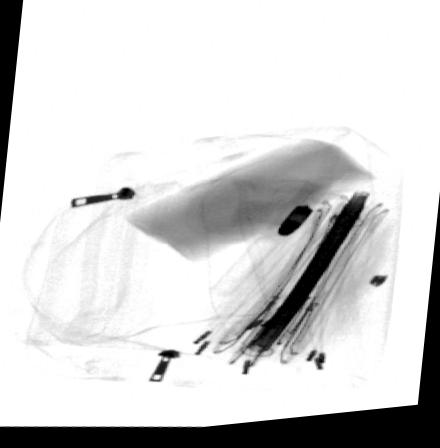Bullet: (275, 209, 313, 243)
